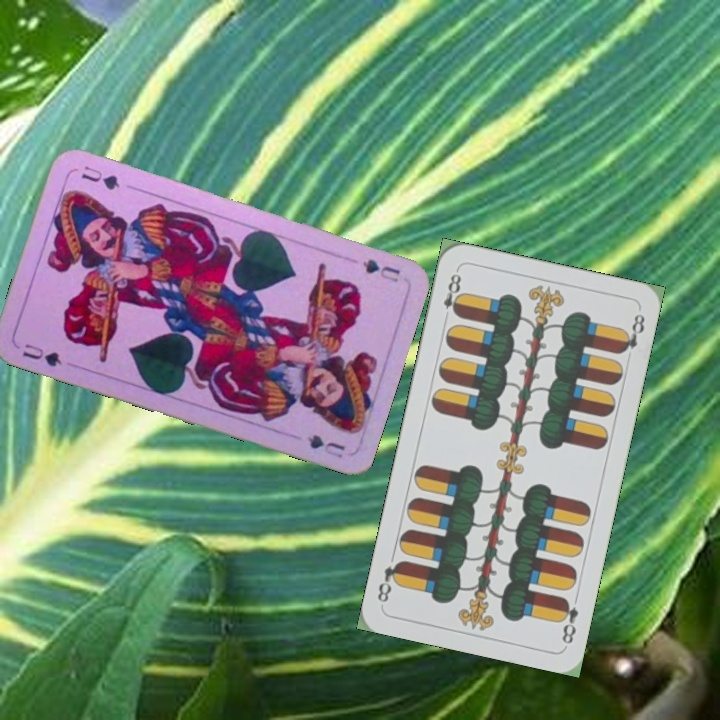E8: (555, 593, 581, 647), (439, 266, 465, 319)
GU: (18, 339, 64, 370), (358, 255, 403, 285)
